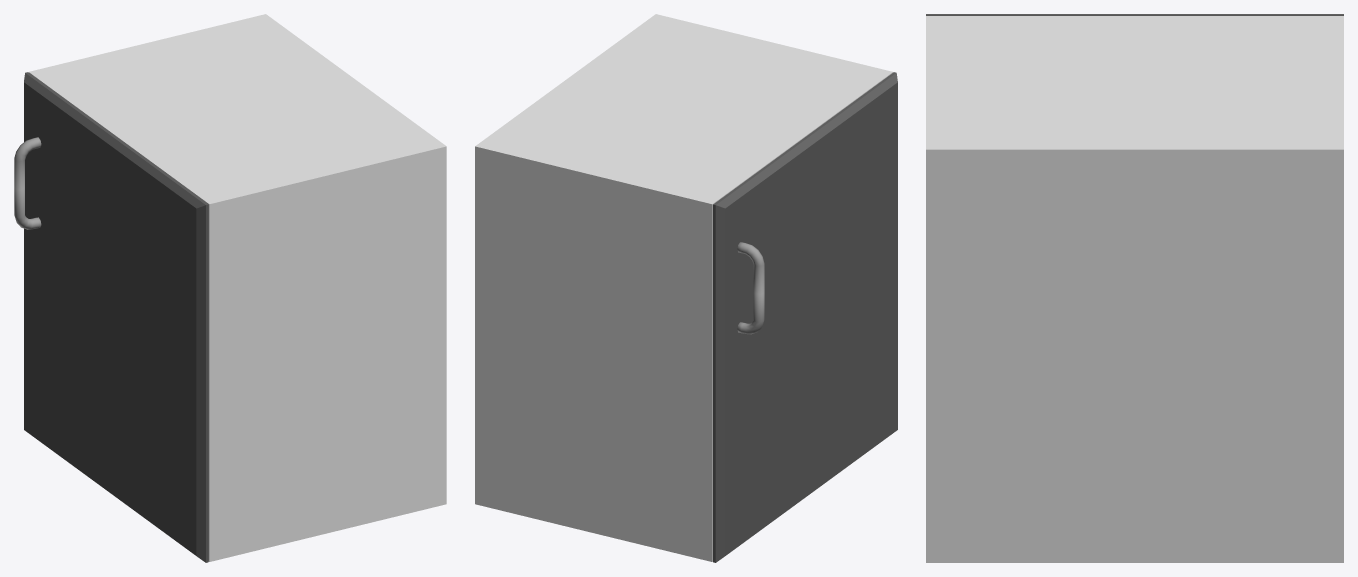
File: Mutfak_Dolap_Alt_1.fbx
3 views of the same model, side by side, from view 1: azimuth 30°, elevation 25°; view 2: azimuth 150°, elevation 25°; view 3: azimuth 270°, elevation 25° (orthographic). The views are drawn at different scales.
Visible parts, largest first — view 1: Cube.003; view 2: Cube.003; view 3: Cube.003.
Part boxes in pixels (x1=…): Cube.003: x1=14, y1=14, x2=446, y2=562; Cube.003: x1=475, y1=14, x2=897, y2=562; Cube.003: x1=926, y1=14, x2=1343, y2=562.
Bounding box in the file's own units: 87.99 × 111 × 102.
